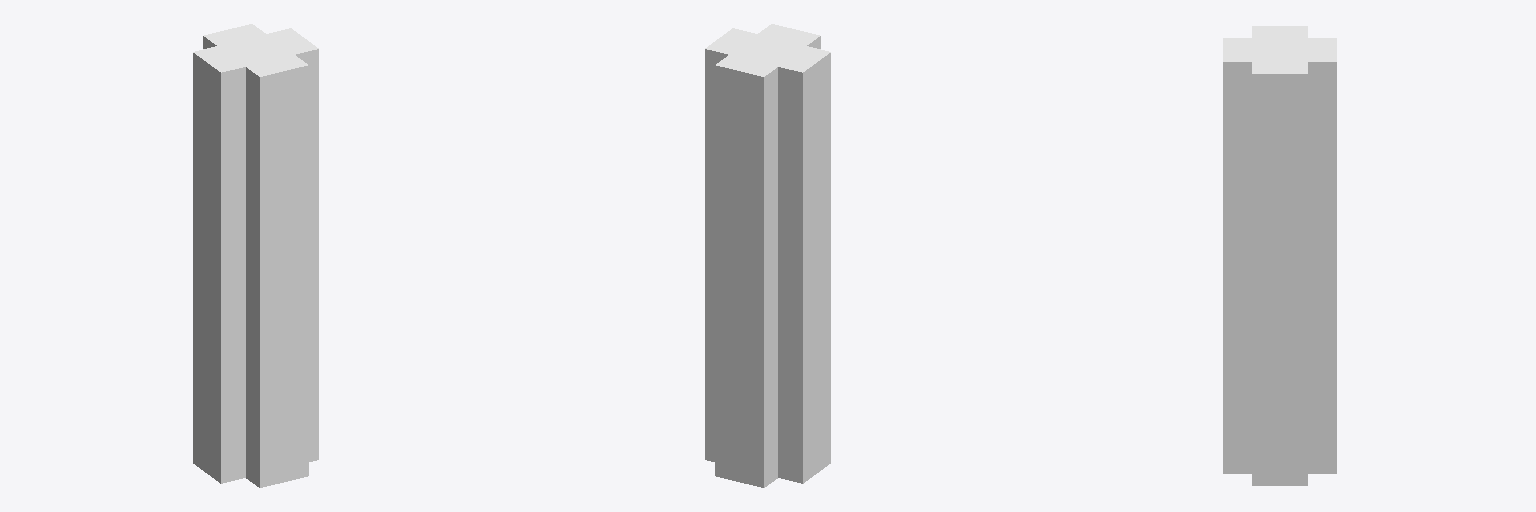
The model's file is MiddleSegment_4x4.obj.
The picture shows the model from 3 angles: view 1: azimuth 30°, elevation 25°; view 2: azimuth 150°, elevation 25°; view 3: azimuth 270°, elevation 25°; orthographic projection.
Visible parts, largest first — view 1: object 1; view 2: object 1; view 3: object 1.
Part boxes in pixels (x1,y1,x2,y2): object 1: (193, 24, 318, 487); object 1: (705, 24, 830, 487); object 1: (1223, 26, 1336, 485).
Size of the model in its own units: 0.4 by 1.6 by 0.4.